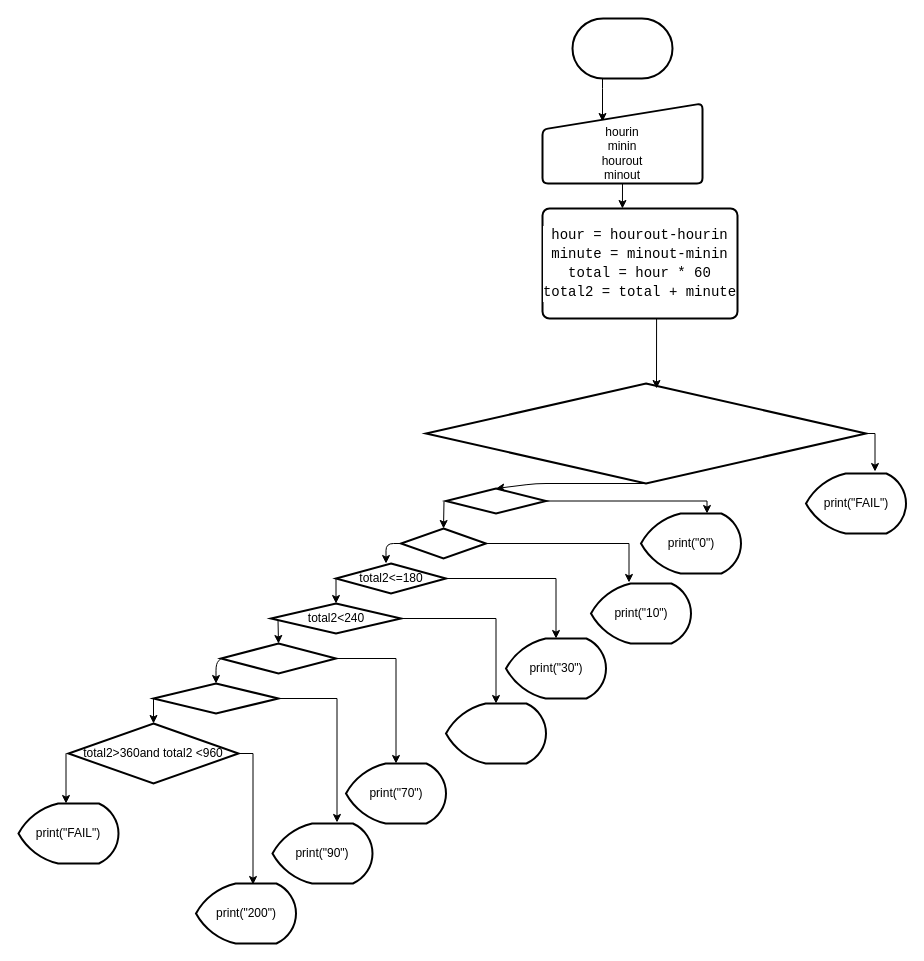
This 924x961 diagram has some shape labels left out. The shapes that lost their labels are listed below. From the top down, each one's box as (x1, y1, x2, y2) in pixels, then its label:
(571, 17, 673, 79): Begin
(424, 382, 866, 484): hourin < 7 or hourin >23 or hourout 23 or minin >= 60 or minout >= 60 :
(444, 487, 546, 514): total2<=15
(400, 527, 486, 559): total2<60
(220, 642, 336, 674): total2<300
(152, 682, 279, 714): total2<360
(444, 702, 546, 764): print("50")
